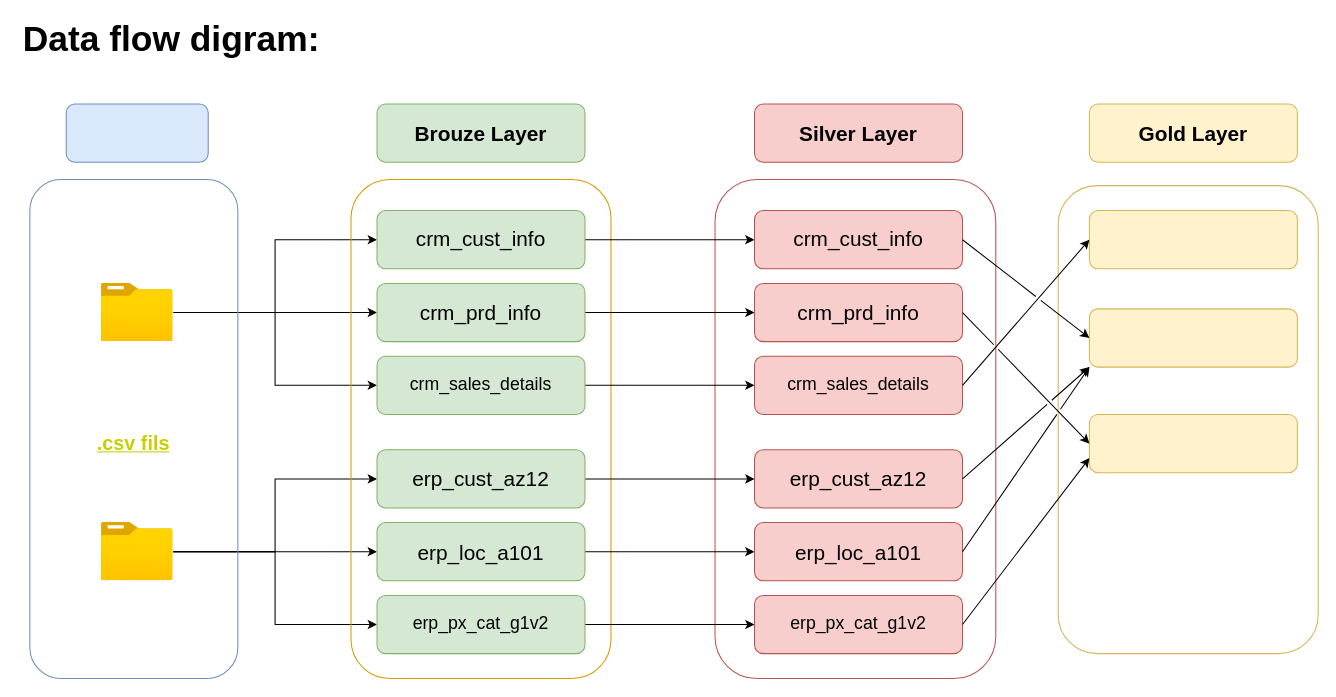
The diagram is 1336 pixels wide and 697 high, and some of its shapes have lost their labels. The centre of each missing label's shape, as x and y in pixels:
"CRM" goes at point (137, 312).
"dim_customers" goes at point (1192, 337).
"dim_products" goes at point (1192, 443).
"ERP" goes at point (137, 551).
"fact_sales" goes at point (1192, 239).
"Source" goes at point (136, 132).
